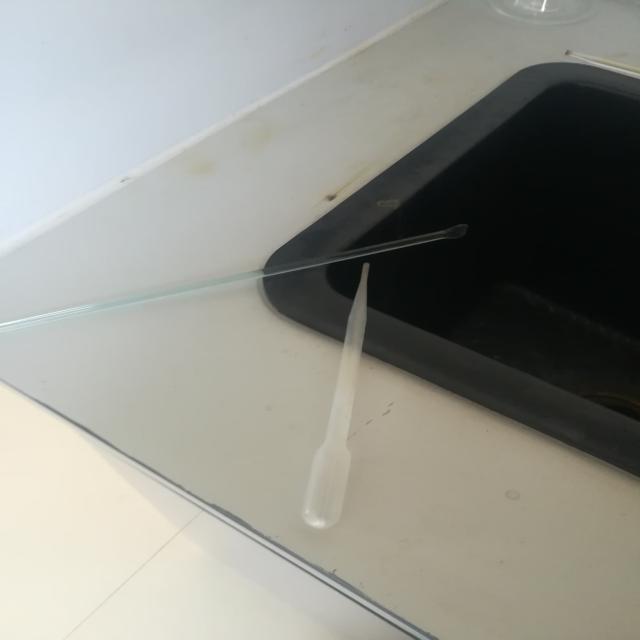Glass_Rod: (0, 198, 525, 348)
Pipette: (272, 255, 419, 558)
